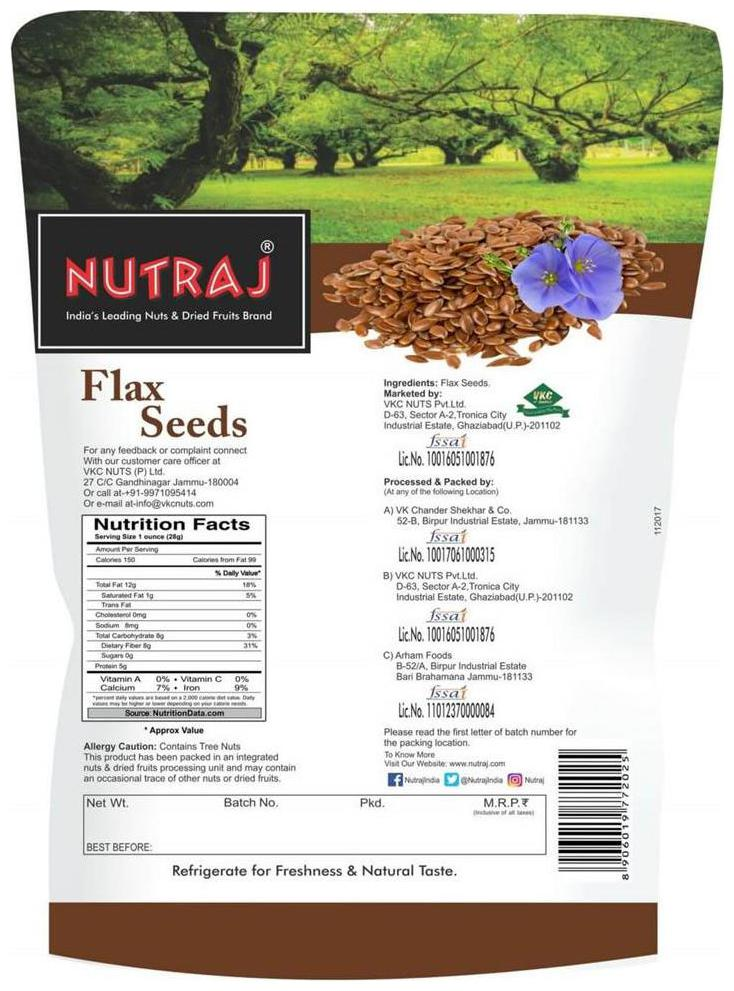fssai: (426, 528, 469, 545), (426, 683, 469, 700), (427, 607, 469, 624), (427, 432, 467, 449)
